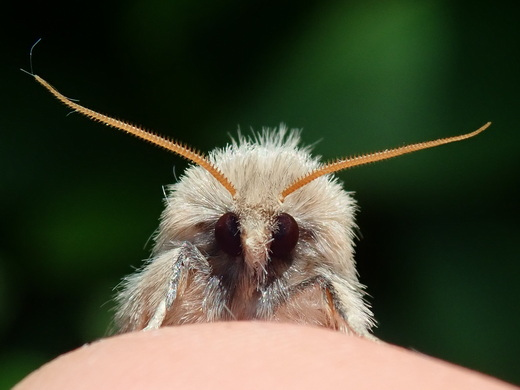Noctuidae: (20, 58, 492, 347)
